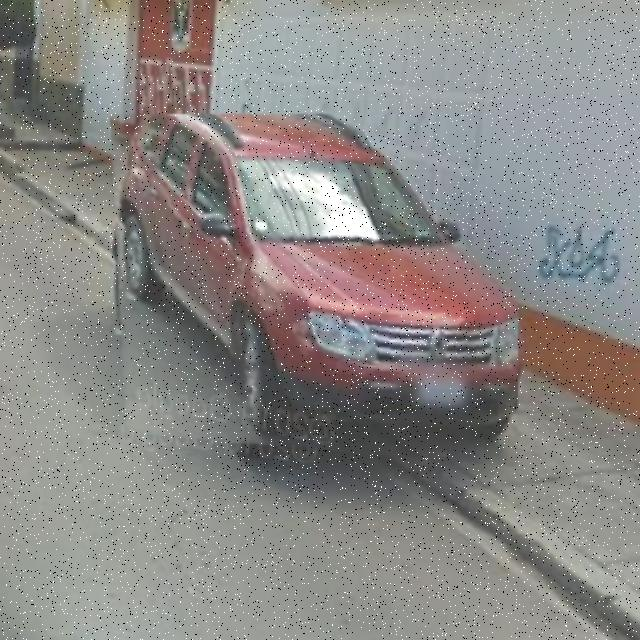car: (109, 115, 519, 470)
